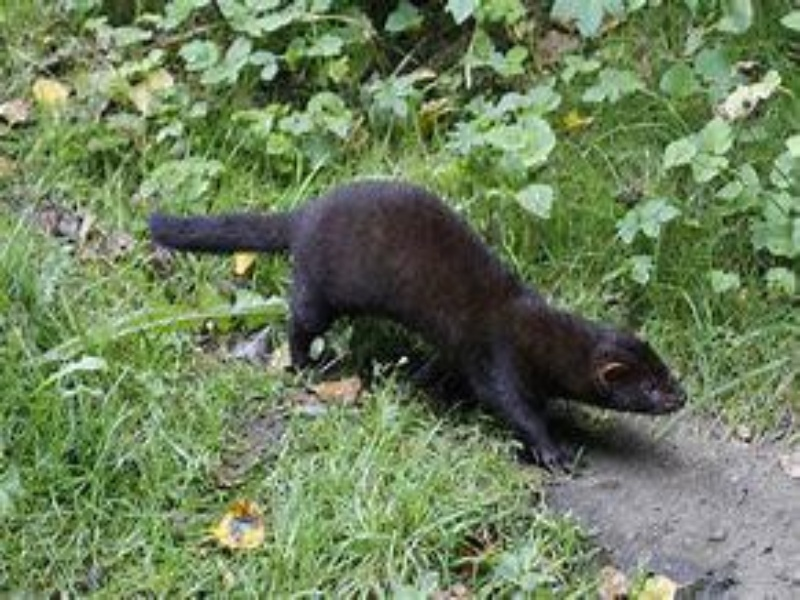minkish: (143, 174, 695, 475)
